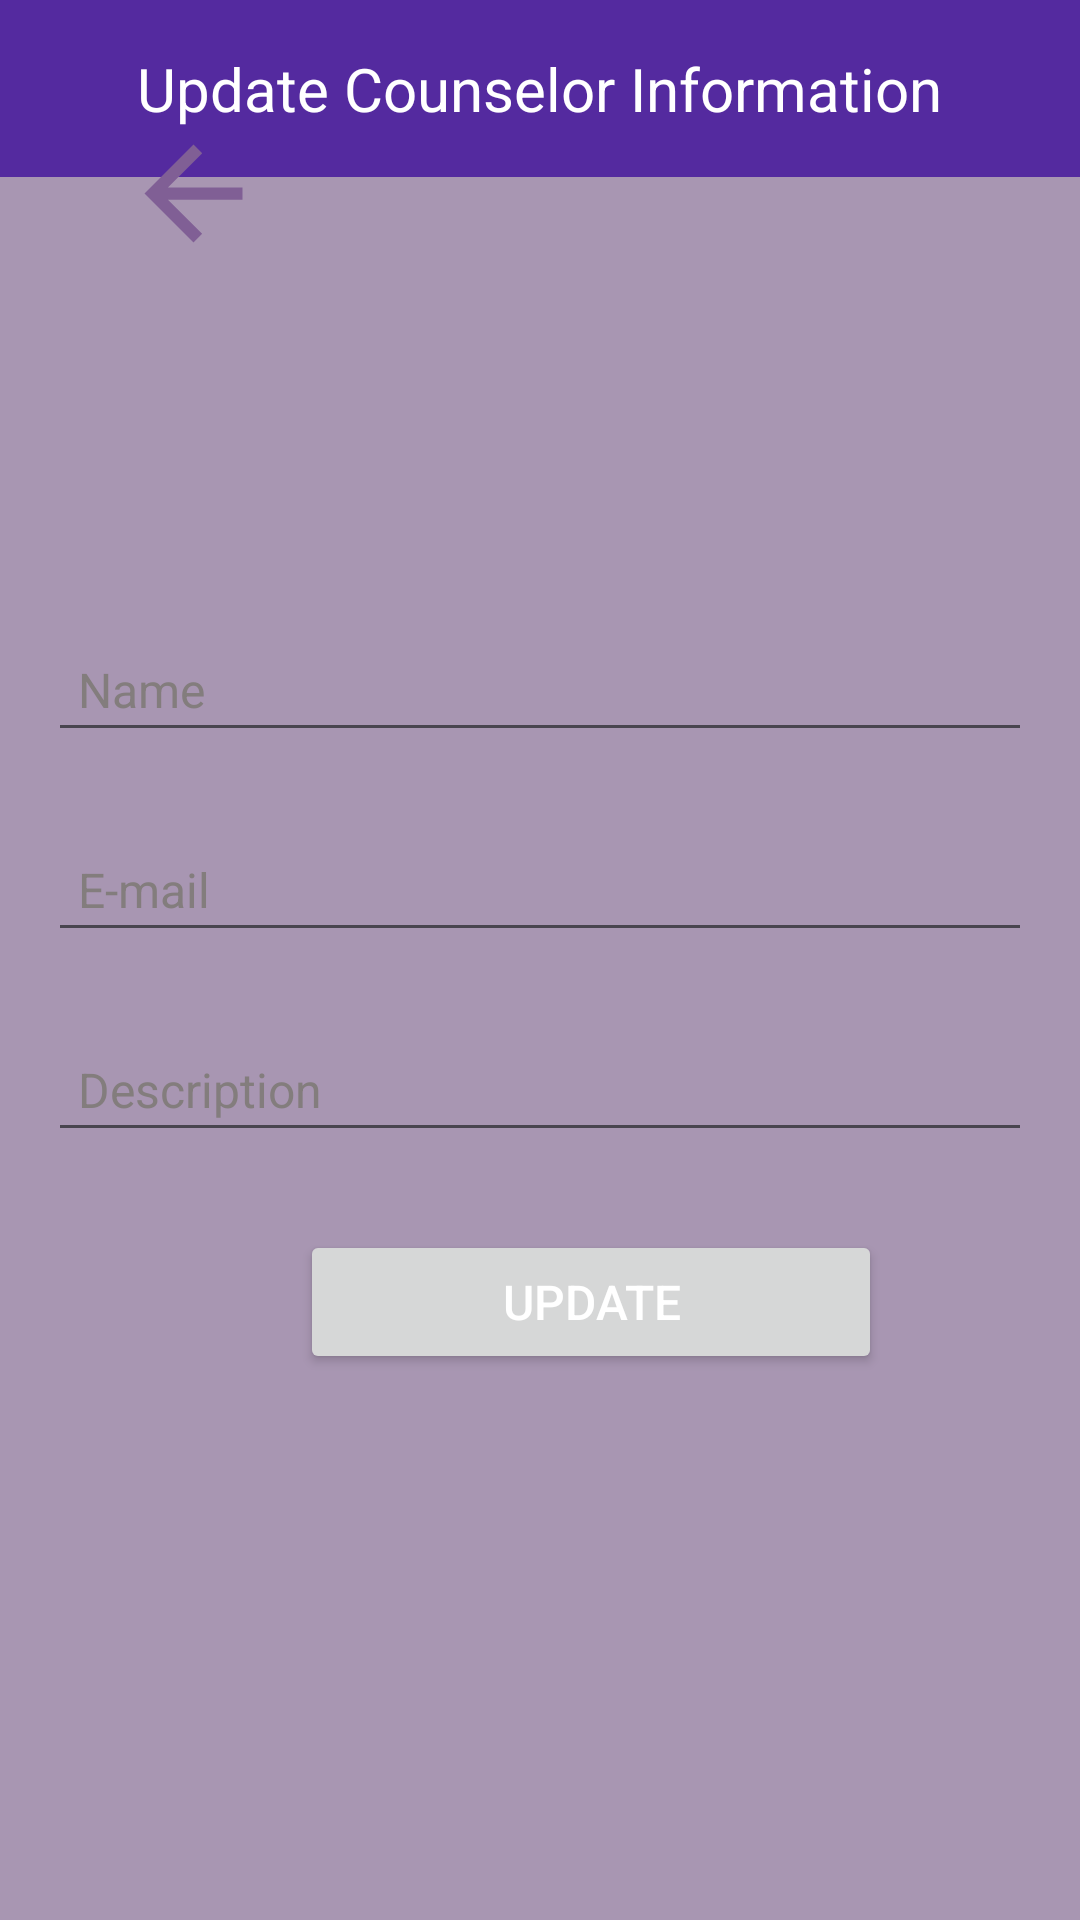

Point at icon controls on the screen. Image size 1080px x 1920px, points as [x,y].
back: [193,193]
